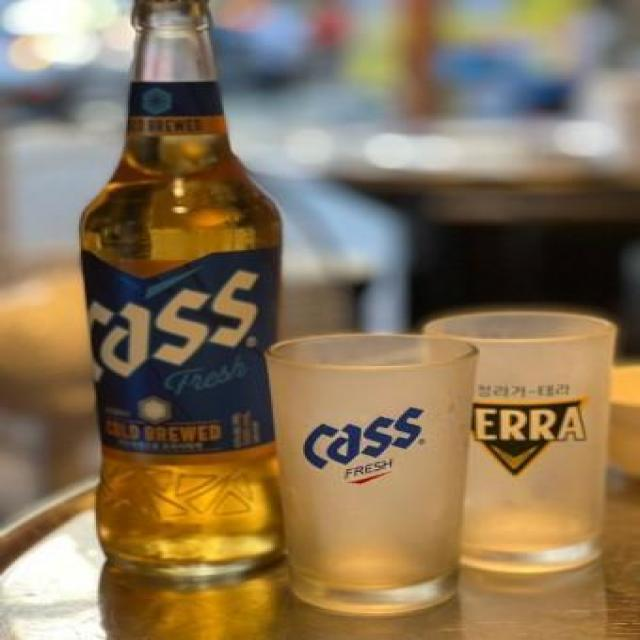beer-bottle: (75, 0, 291, 583)
